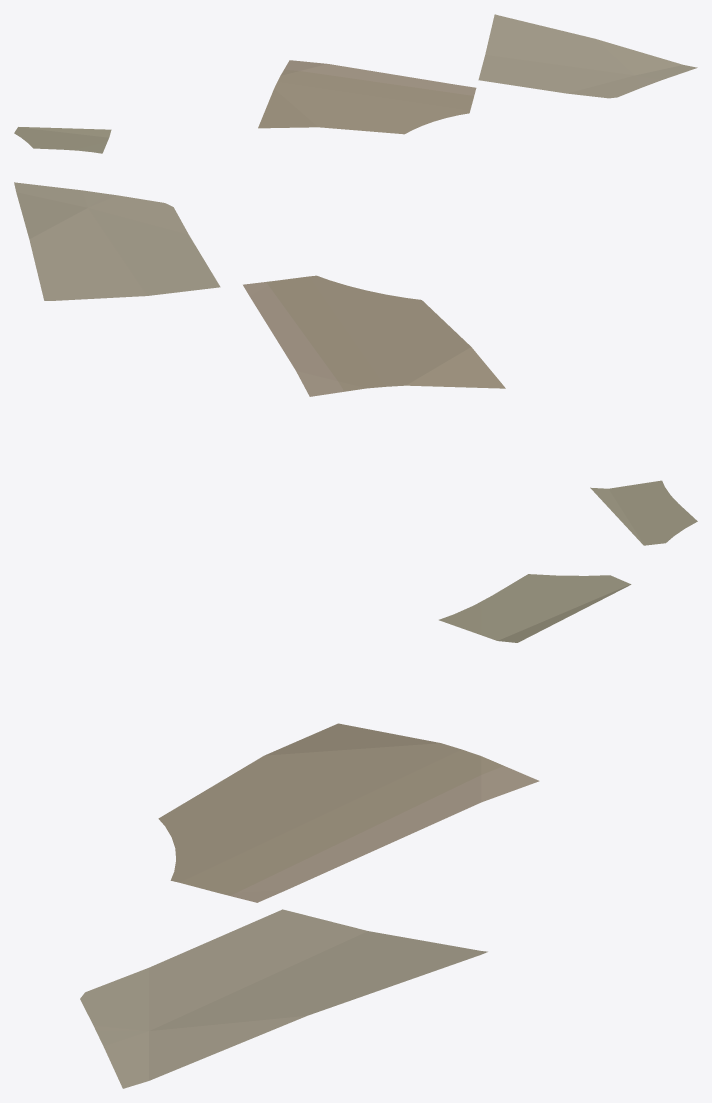
File: farm_6_23_soil.glb
3 views of the same model, one above another, from view 1: azimuth 30°, elevation 25°; view 2: azimuth 150°, elevation 25°; view 3: azimuth 270°, elevation 25° (orthographic). The views are drawn at different scales.
Visible parts, largest first — view 1: geometry_0; view 2: geometry_0; view 3: geometry_0.
Part boxes in pixels (x1,y1,x2,y2): geometry_0: (14,14,697,153); geometry_0: (14,182,697,545); geometry_0: (80,574,631,1088).
Bounding box in the file's own units: 313 × 16.82 × 133.
